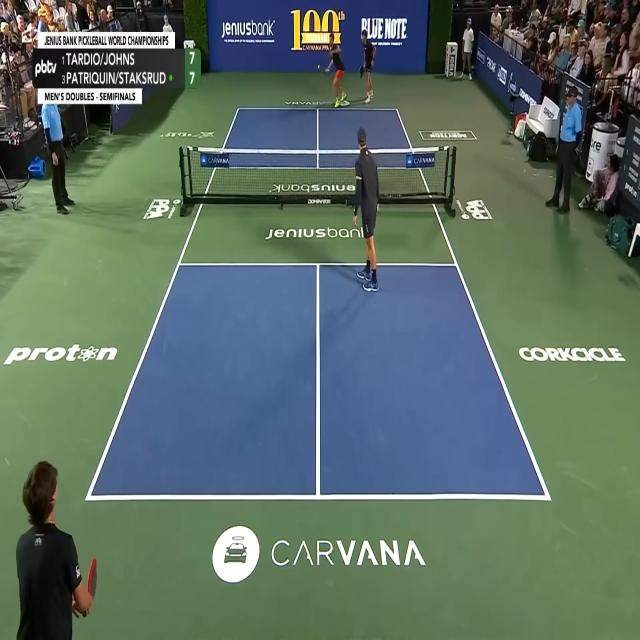ball: (318, 64, 320, 69)
